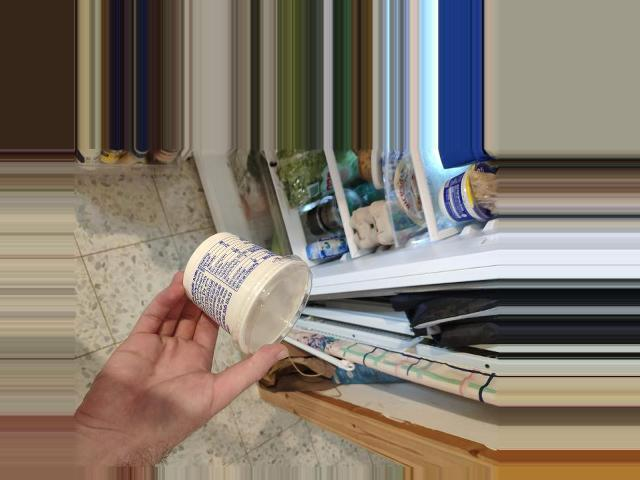cotage: (196, 236, 312, 345)
